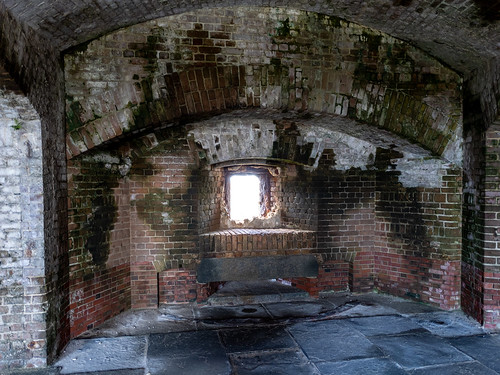window: (212, 164, 282, 231)
